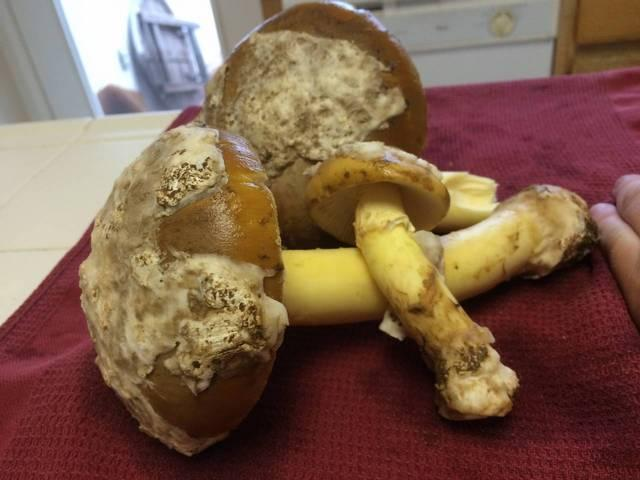edible_mushroom: (77, 122, 290, 456), (303, 139, 521, 422)
